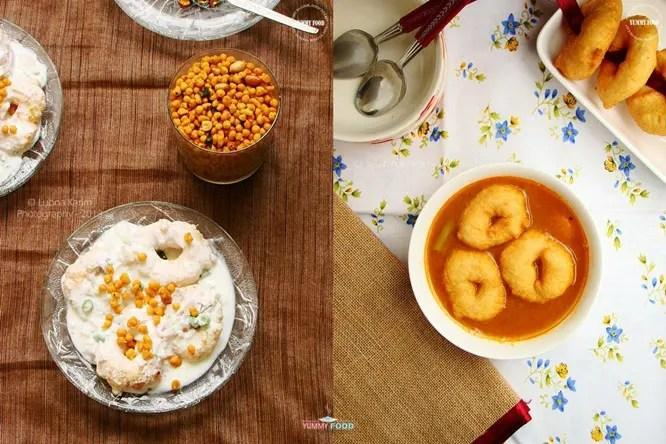mvada: (469, 219, 557, 316), (570, 26, 666, 90)
